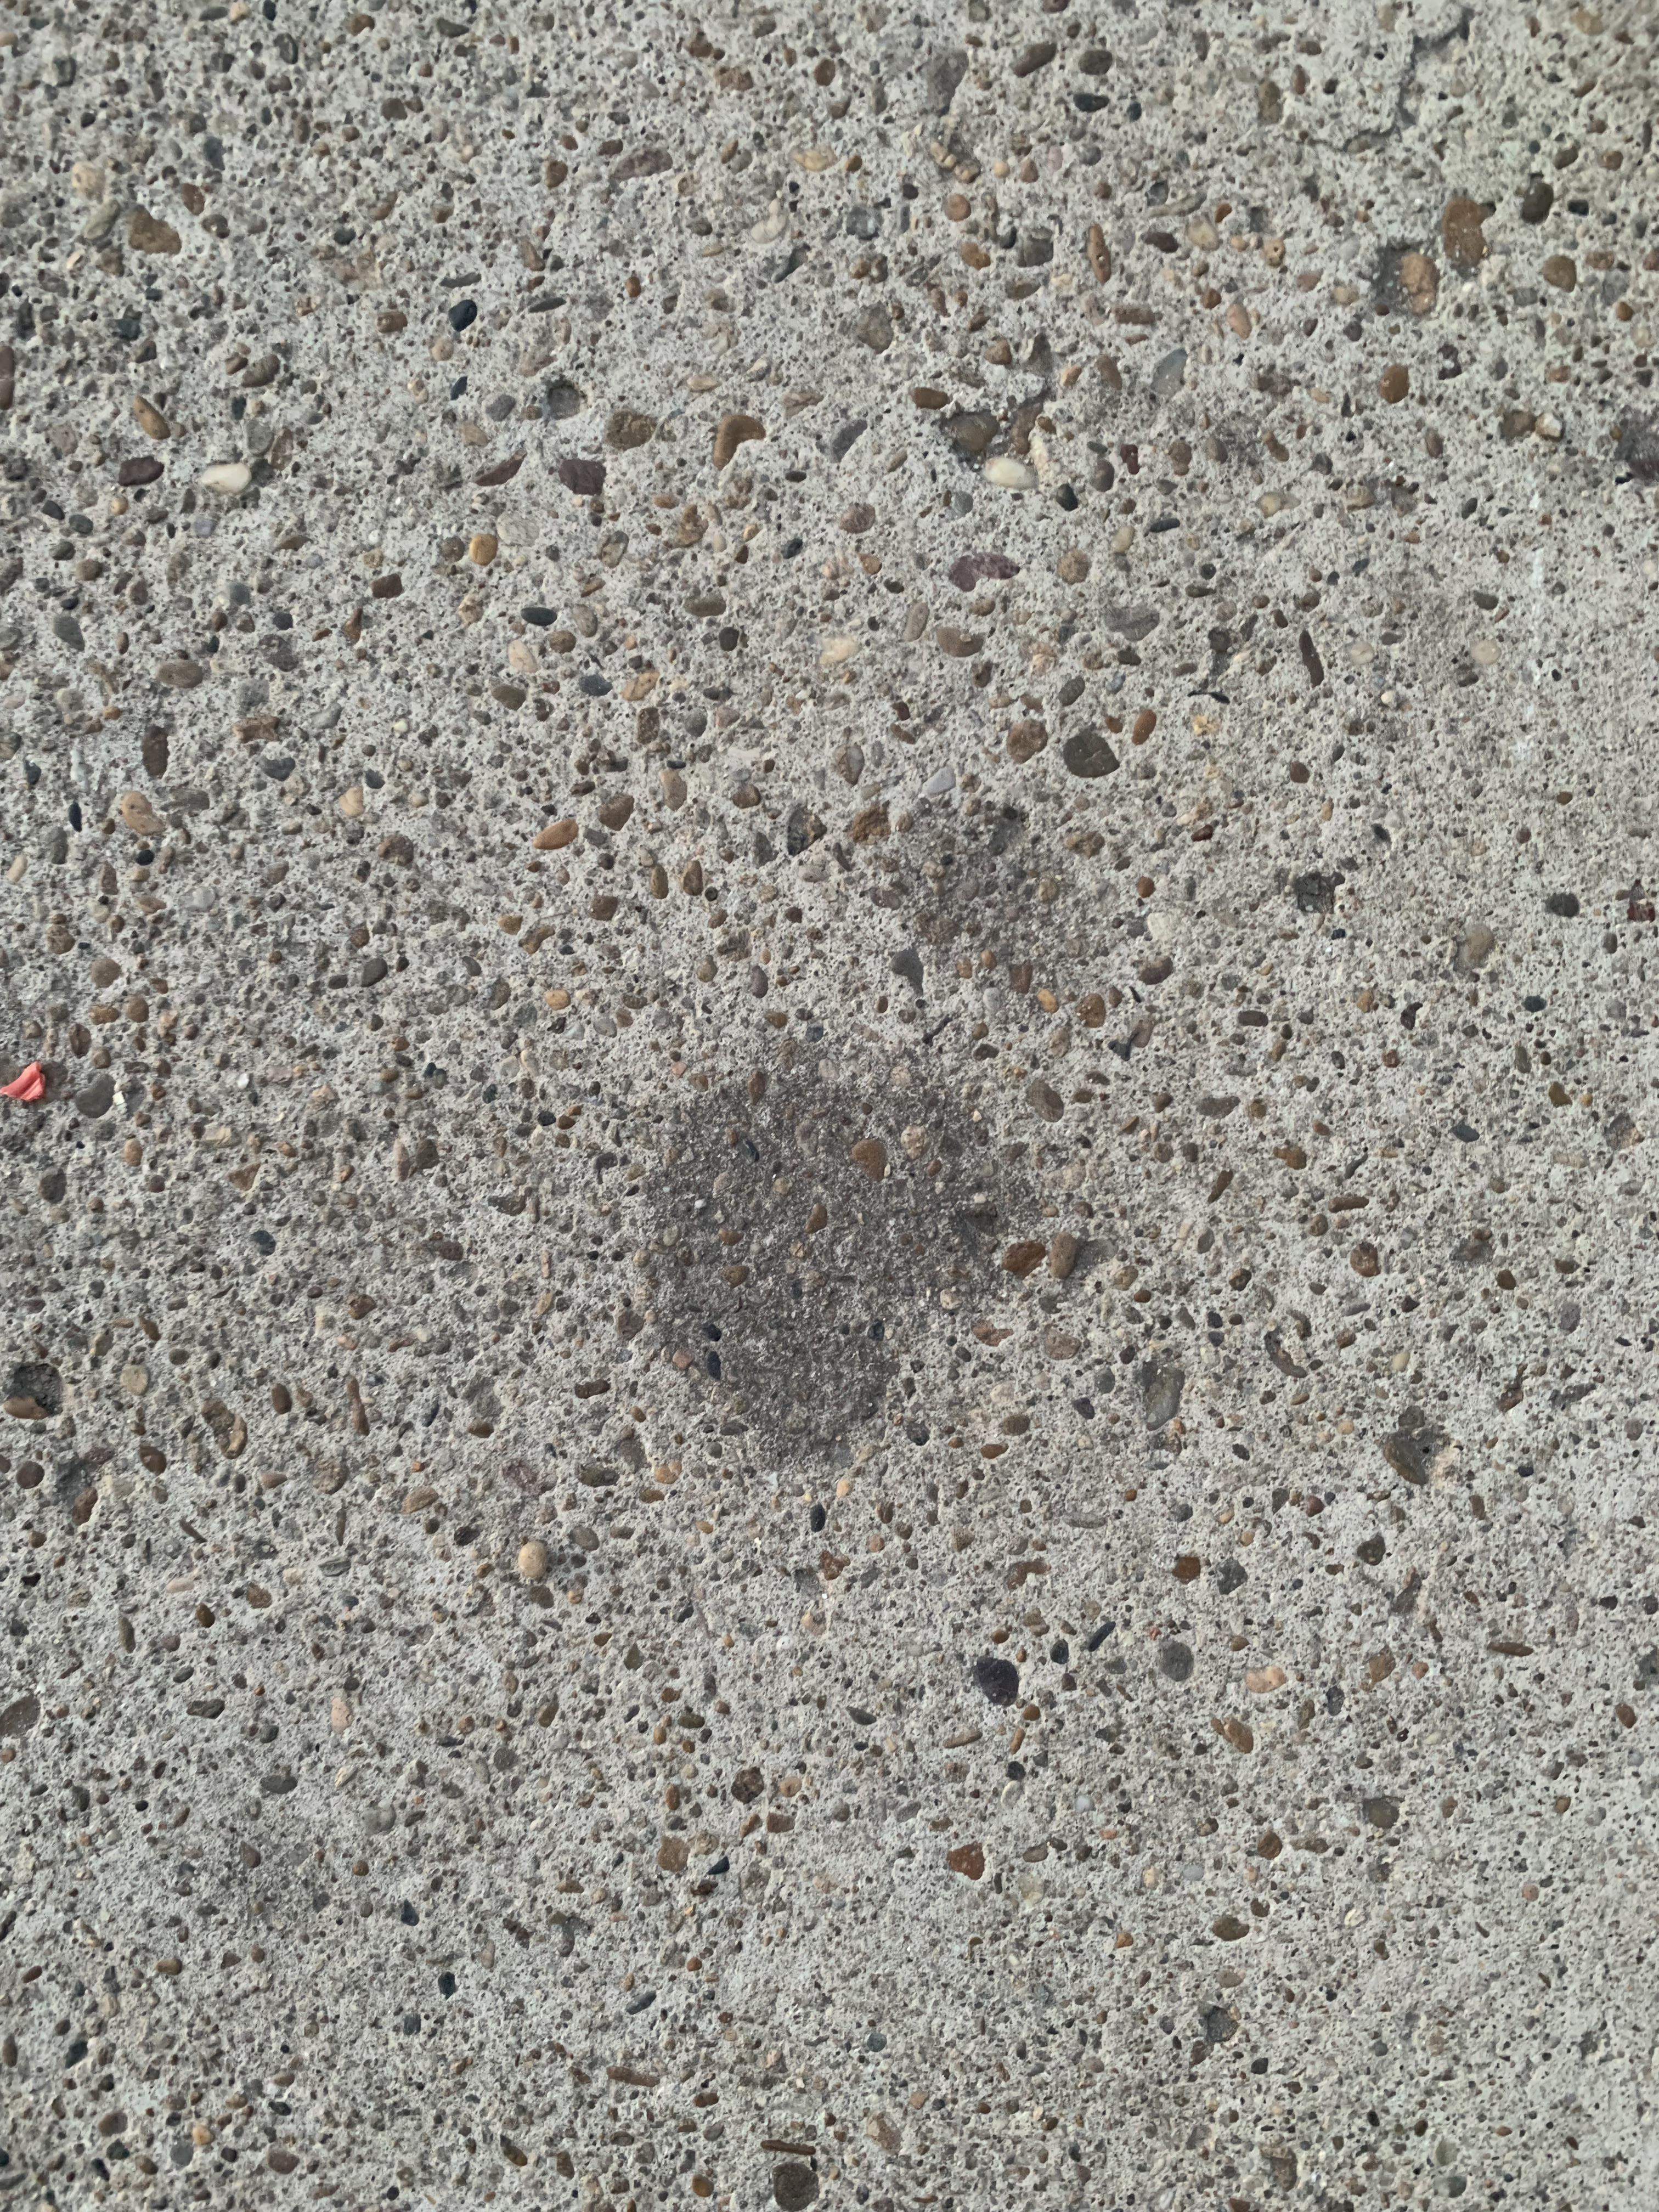ash pile: (645, 1076, 1032, 1477)
